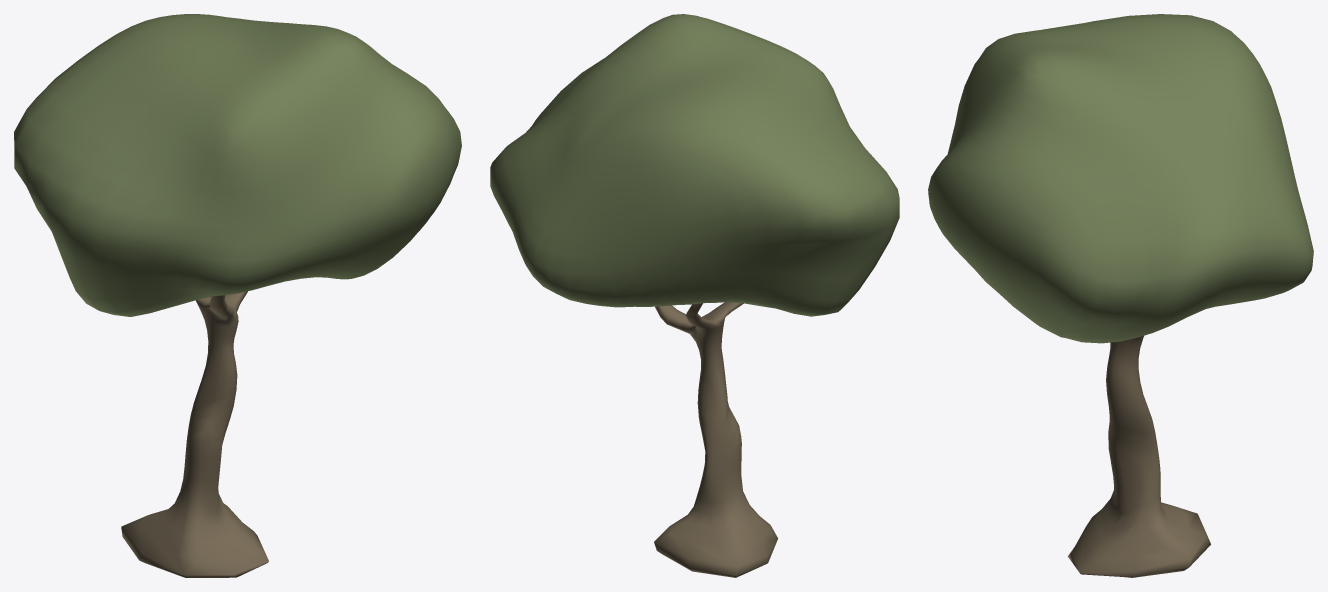
Rendered from Arbol2.fbx.
3 views of the same model, side by side, from view 1: azimuth 30°, elevation 25°; view 2: azimuth 150°, elevation 25°; view 3: azimuth 270°, elevation 25° (orthographic). The views are drawn at different scales.
Parts seen in each view (by area): view 1: Arbol, Tronco; view 2: Arbol, Tronco; view 3: Arbol, Tronco.
Part boxes in pixels (<box>): Arbol: <box>14,14,461,316</box>; Tronco: <box>121,291,268,577</box>; Arbol: <box>490,14,899,316</box>; Tronco: <box>654,302,777,577</box>; Arbol: <box>928,14,1313,343</box>; Tronco: <box>1067,336,1210,577</box>.
Size of the model in its own units: 9.92 by 12.48 by 8.09.
